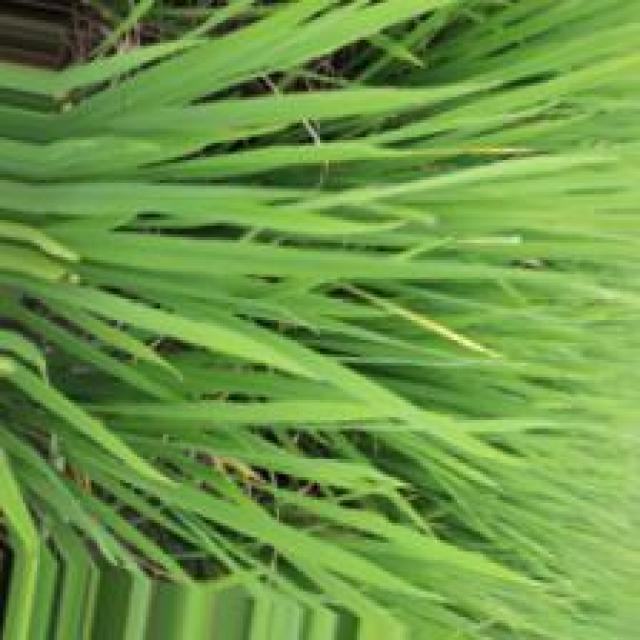HealthyLeaf: (3, 180, 568, 283), (0, 355, 168, 484)
